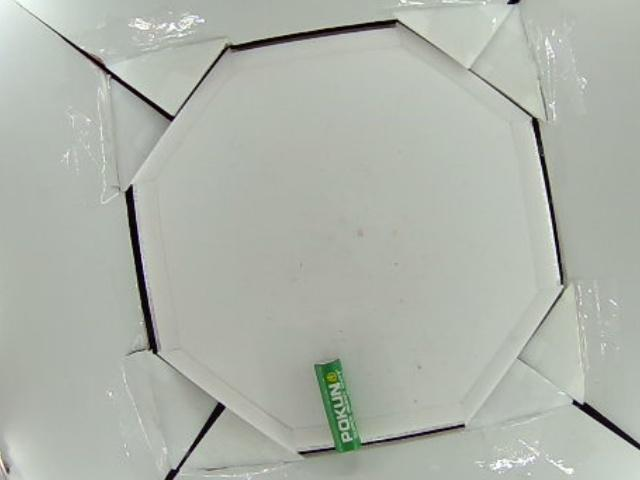Battery: (315, 357, 361, 454)
